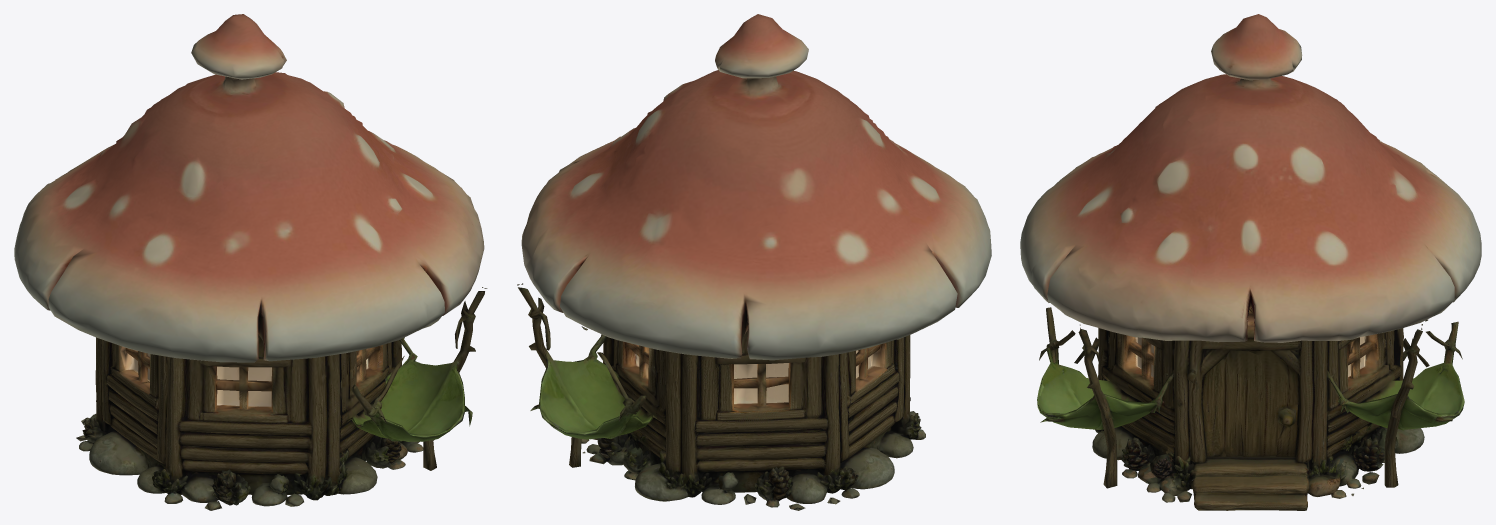
Rendered from tripo_convert_45bcb44c-efde-4f86-b3d3-f7bb156b0645.fbx.
3 views of the same model, side by side, from view 1: azimuth 30°, elevation 25°; view 2: azimuth 150°, elevation 25°; view 3: azimuth 270°, elevation 25° (orthographic). The views are drawn at different scales.
Visible parts, largest first — view 1: tripo_node_45bcb44c; view 2: tripo_node_45bcb44c; view 3: tripo_node_45bcb44c.
Boxes of the visible parts, <box> form: tripo_node_45bcb44c: <box>14,14,487,510</box>; tripo_node_45bcb44c: <box>517,14,991,510</box>; tripo_node_45bcb44c: <box>1020,14,1481,510</box>.
Size of the model in its own units: 0.9997 by 0.9921 by 1.
1 material, 1 textured.
